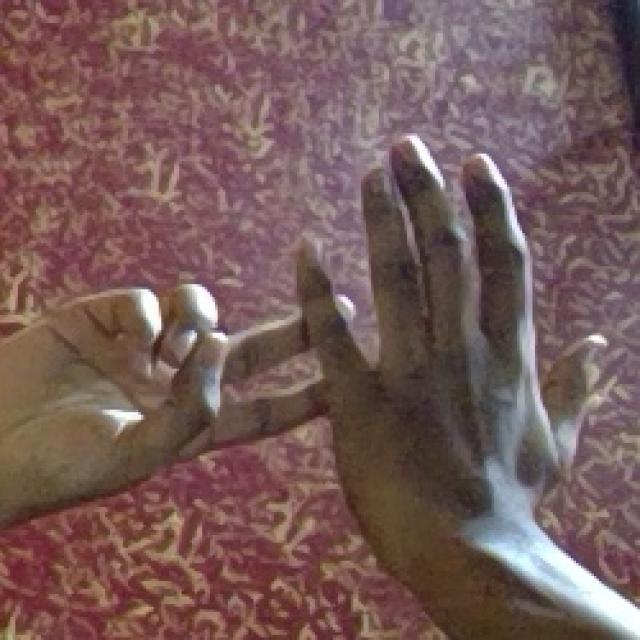Alphabet-N: (0, 128, 605, 546)
